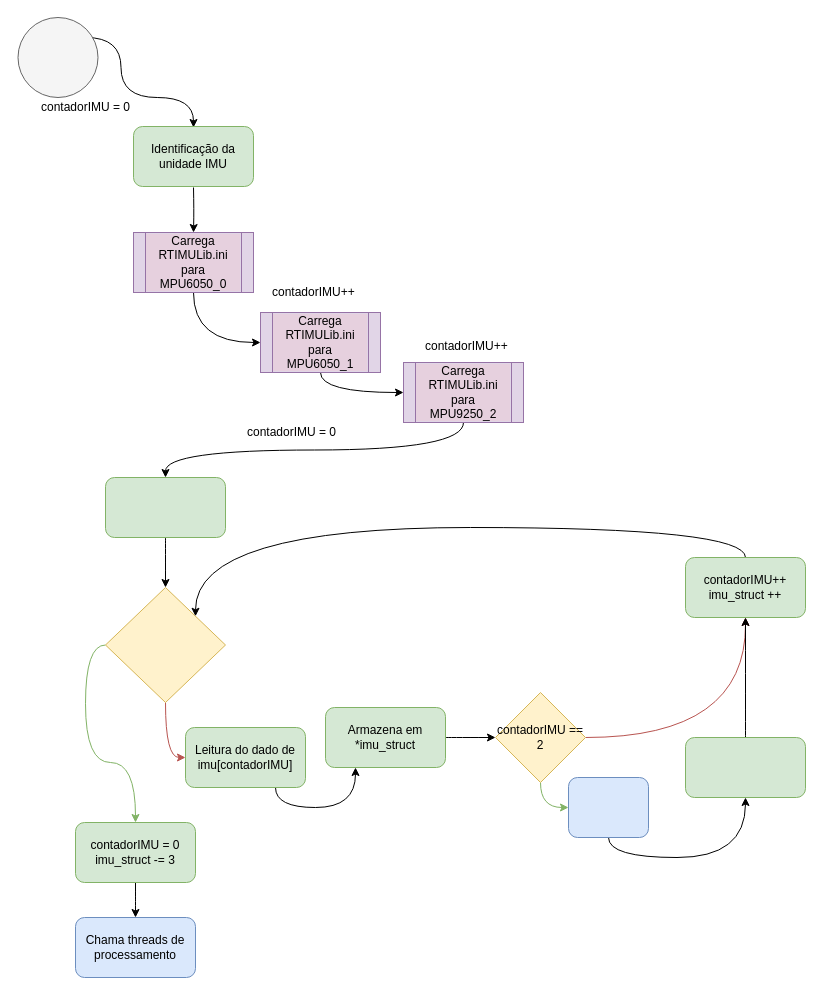
Some shapes in this 823 by 995 pixel diagram are drawn without their labels. The centre of each missing label's shape, as x and y in pixels:
"Armazena em uav. roll , uav. pitch , uav. yaw" goes at point (745, 767).
"chave mutexUAV" goes at point (608, 807).
"contadorIMU > 3" goes at point (165, 644).
"main" goes at point (57, 57).
"Retorna objeto RTIMU* imu" goes at point (165, 507).
